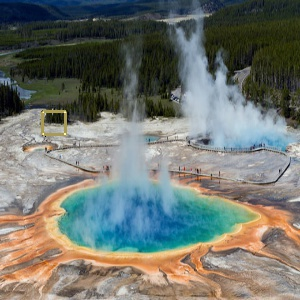square: (39, 109, 67, 137)
